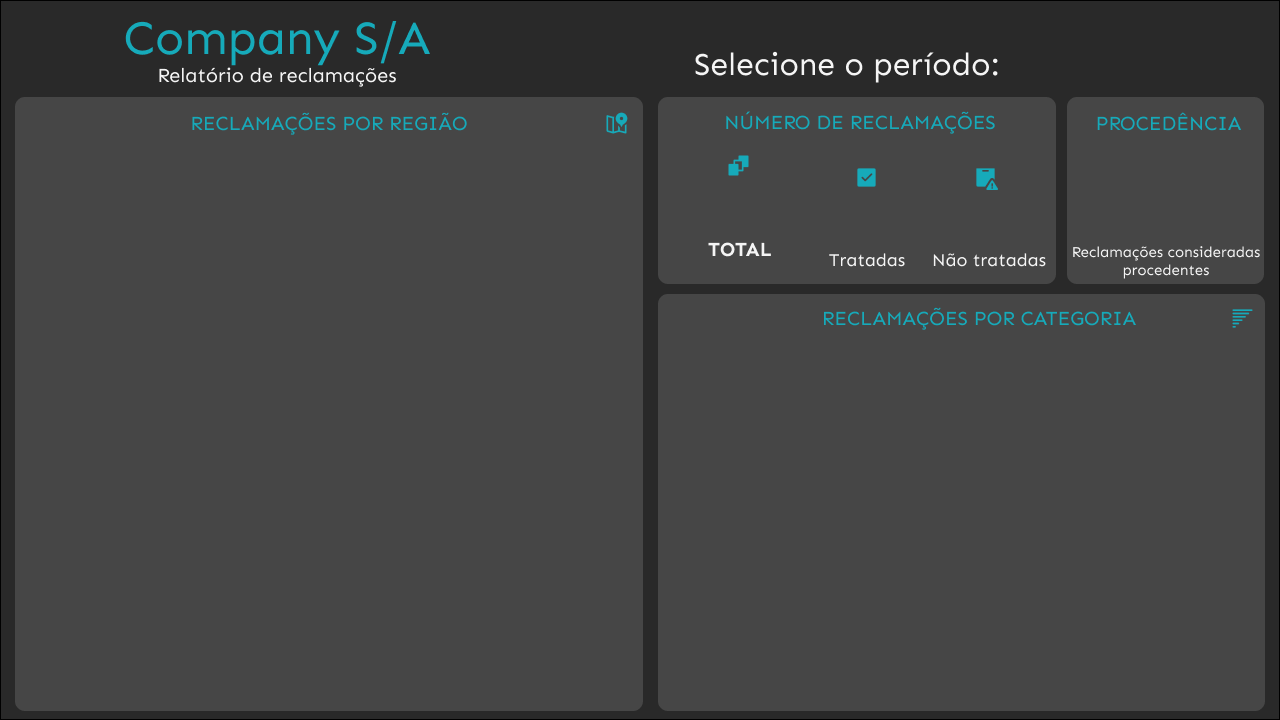

This screenshot's page, from the dashboard's own definition file:
{"tool":"powerbi","page":{"name":"Dashboard","canvas":[1280,720],"ordinal":0},"visuals":[{"type":"cardVisual","fields":{"Data":["1.0 Medidas.Total_Reclamacoes"]},"box":[680,126.7,116.7,143.3],"z":0},{"type":"cardVisual","fields":{"Data":["1.0 Medidas.Reclamacoes_Apuradas"]},"box":[796.7,160,135,110],"z":1000},{"type":"cardVisual","fields":{"Data":["1.0 Medidas.Reclamacoes_nao_apuradas"]},"box":[931.7,160,111.7,110],"z":2000},{"type":"filledMap","fields":{"Category":["1.2 Base de dados - Reclamações_.UF"]},"box":[20,143.3,620,558.3],"z":3000},{"type":"paretoEDD8E69761BA4B7BB3AA6D813990D7BF","fields":{"values":["1.0 Medidas.Total_Reclamacoes"],"categories":["1.2 Base de dados - Reclamações_.Tipo_reclamao"]},"box":[667.3,339.8,588.3,361.8],"z":4000},{"type":"slicer","fields":{"Values":["1.1 TabelaCalendario.Date"]},"box":[1018.5,13.2,217.8,75.5],"z":5000},{"type":"card","fields":{"Values":["1.0 Medidas.Percentual_Reclamacoes_Procedentes"]},"box":[1065.1,126.4,202,110.6],"z":6000}]}

Visuals, with their boxes in screenshot pixels (x1, y1, x2, y2), scaled from the page's 1280x720 canvas onto the 1280x720 screenshot:
cardVisual - 1.0 Medidas.Total_Reclamacoes: <bbox>680, 127, 797, 270</bbox>
cardVisual - 1.0 Medidas.Reclamacoes_Apuradas: <bbox>797, 160, 932, 270</bbox>
cardVisual - 1.0 Medidas.Reclamacoes_nao_apuradas: <bbox>932, 160, 1043, 270</bbox>
filledMap - 1.2 Base de dados - Reclamações_.UF: <bbox>20, 143, 640, 702</bbox>
paretoEDD8E69761BA4B7BB3AA6D813990D7BF - 1.0 Medidas.Total_Reclamacoes x 1.2 Base de dados - Reclamações_.Tipo_reclamao: <bbox>667, 340, 1256, 702</bbox>
slicer - 1.1 TabelaCalendario.Date: <bbox>1018, 13, 1236, 89</bbox>
card - 1.0 Medidas.Percentual_Reclamacoes_Procedentes: <bbox>1065, 126, 1267, 237</bbox>
